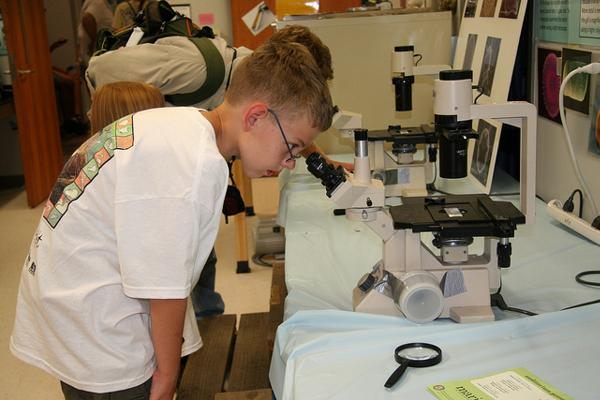person: (12, 43, 333, 400)
